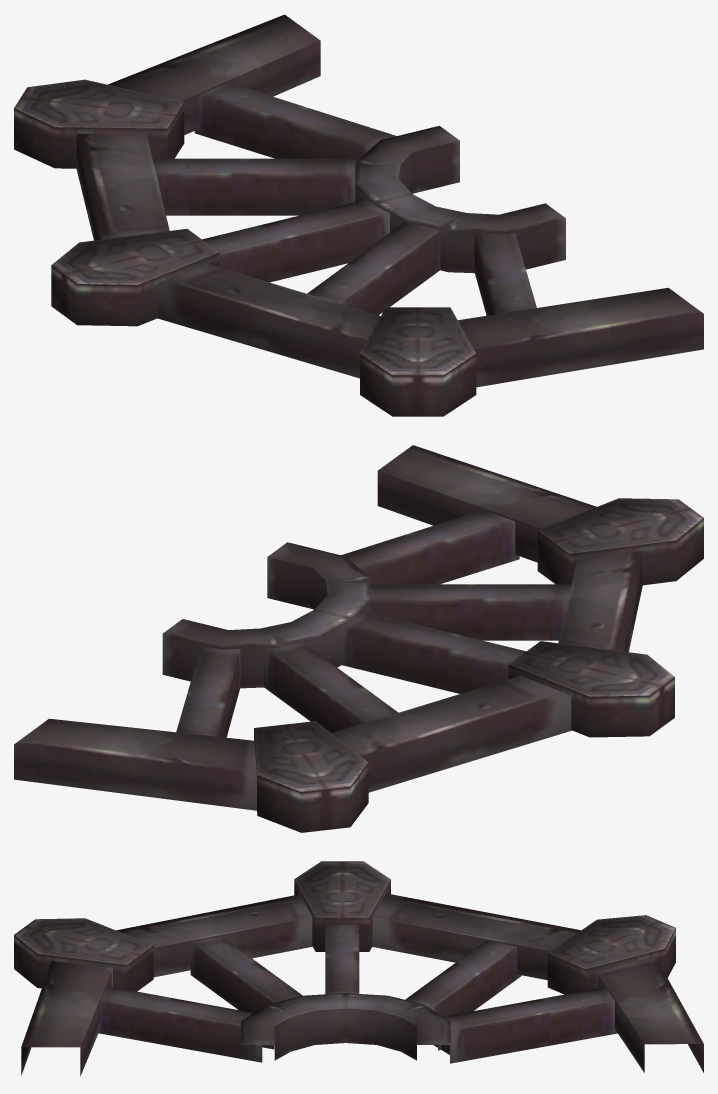
The model's file is huoshan_wujian03.fbx.
3 renders of one model, top to bottom at view 1: azimuth 30°, elevation 25°; view 2: azimuth 150°, elevation 25°; view 3: azimuth 270°, elevation 25°, orthographic. The views are drawn at different scales.
Visible parts, largest first — view 1: huoshan_wujian03; view 2: huoshan_wujian03; view 3: huoshan_wujian03.
Boxes of the visible parts, x1,y1,x2,y2 form: huoshan_wujian03: [14, 14, 703, 416]; huoshan_wujian03: [14, 445, 703, 832]; huoshan_wujian03: [14, 861, 703, 1076].
Size of the model in its own units: 1.41 by 0.1456 by 2.28.
